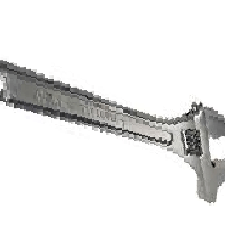Wrench: (3, 51, 225, 204)
